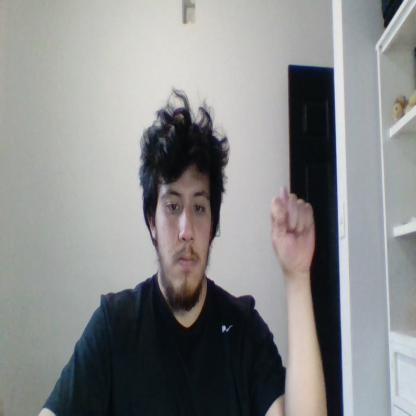T: (270, 184, 315, 274)
